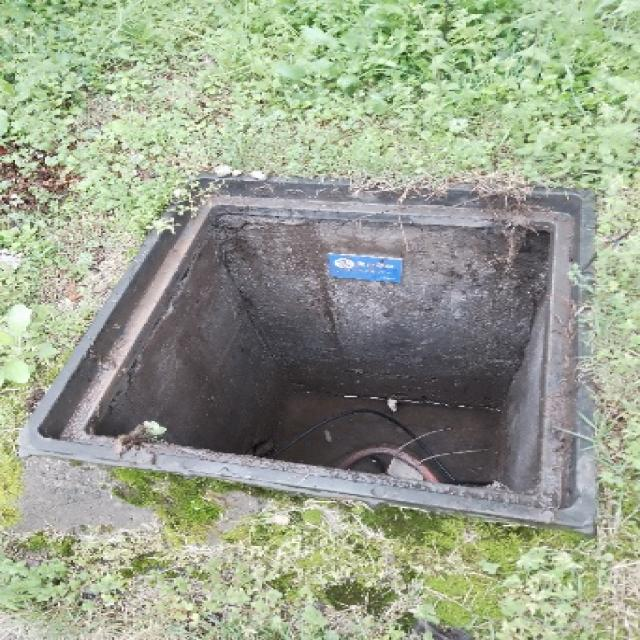Uncovered: (60, 143, 620, 552)
